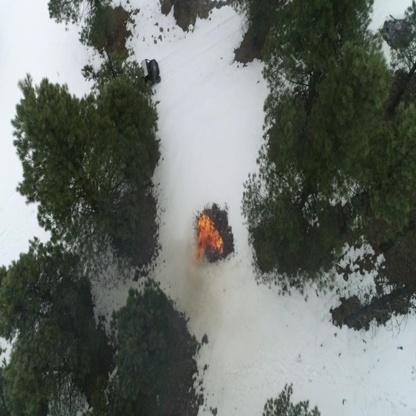Fire: (193, 211, 224, 264)
